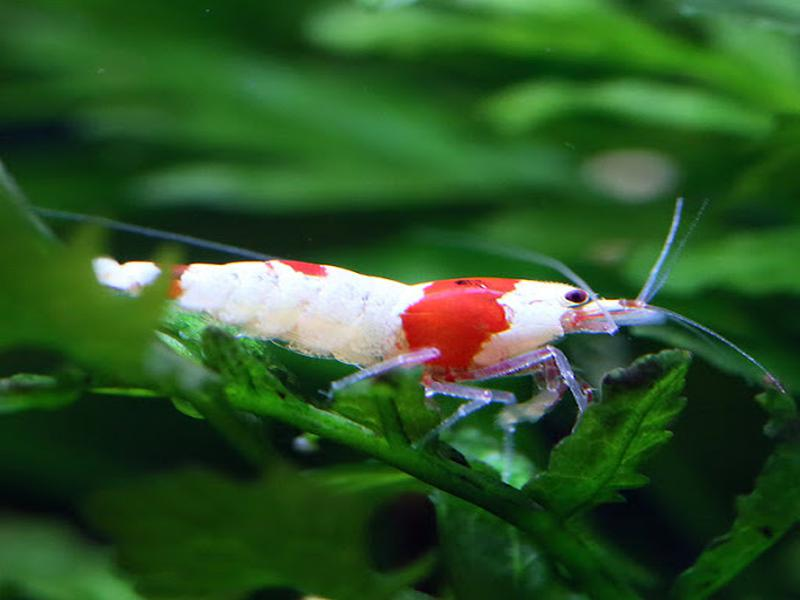shrimp: (94, 251, 668, 391)
